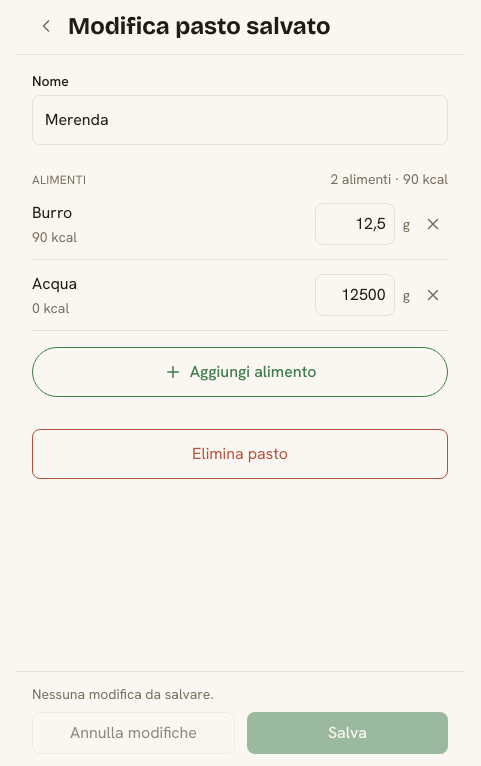
Test: ModificaPastoSalvato, grammi con la virgola › da 10.000 g in su: il campo senza punto, il «Prima» come il resto dell'app
Expected: the field showing "12,5" is shown, [315,203,395,245]
Replace the text in the field labelled "Acqua 0 kcal" with "100": (355, 295) [315,274,395,316]
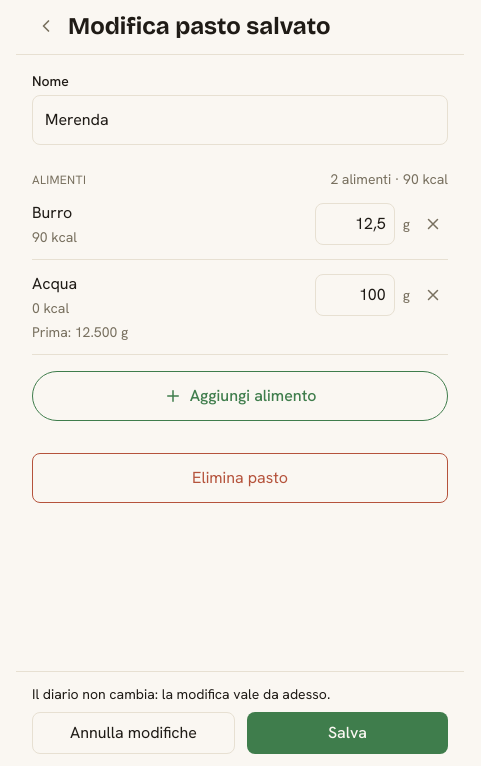
Expected: the text "Prima: 12.500 g" is shown, [32,323,128,341]
